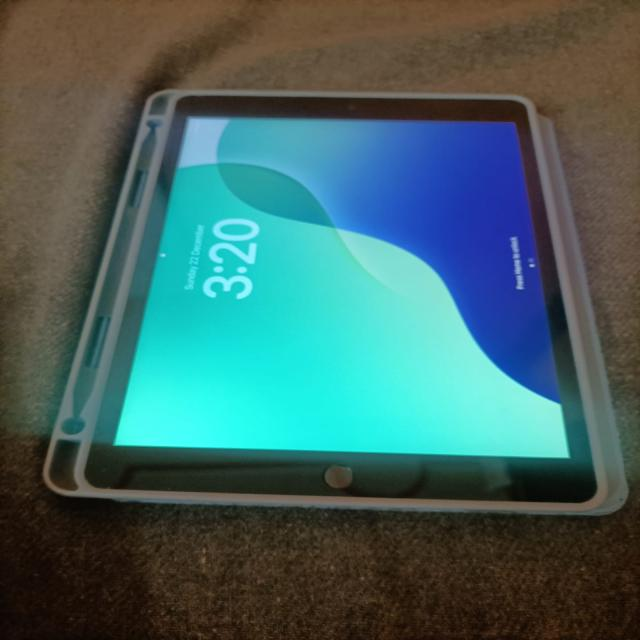tablet: (19, 24, 640, 565)
